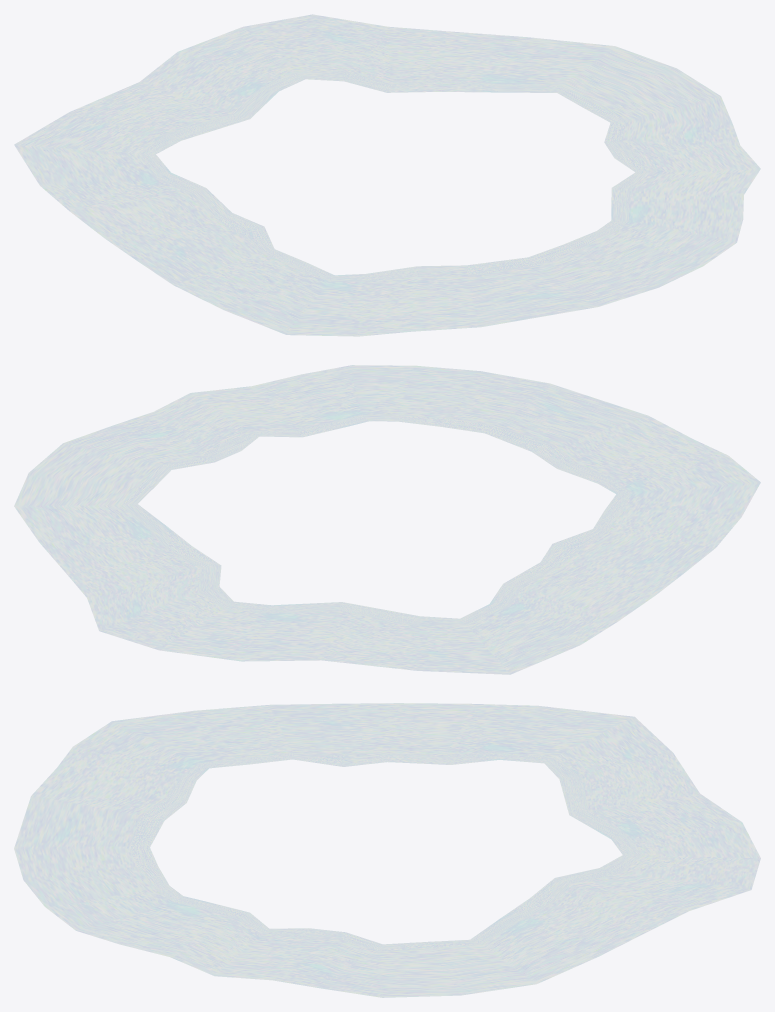
Rendered from huanxingshui3.FBX.
The picture shows the model from 3 angles, top to bottom: view 1: azimuth 30°, elevation 25°; view 2: azimuth 150°, elevation 25°; view 3: azimuth 270°, elevation 25°; orthographic projection.
Visible parts, largest first — view 1: Line002; view 2: Line002; view 3: Line002.
Boxes of the visible parts, x1=… form: Line002: x1=14, y1=14, x2=760, y2=336; Line002: x1=14, y1=365, x2=760, y2=674; Line002: x1=14, y1=703, x2=760, y2=997.
Size of the model in its own units: 56.68 by 0.00807 by 60.71.
1 material, 1 textured.
